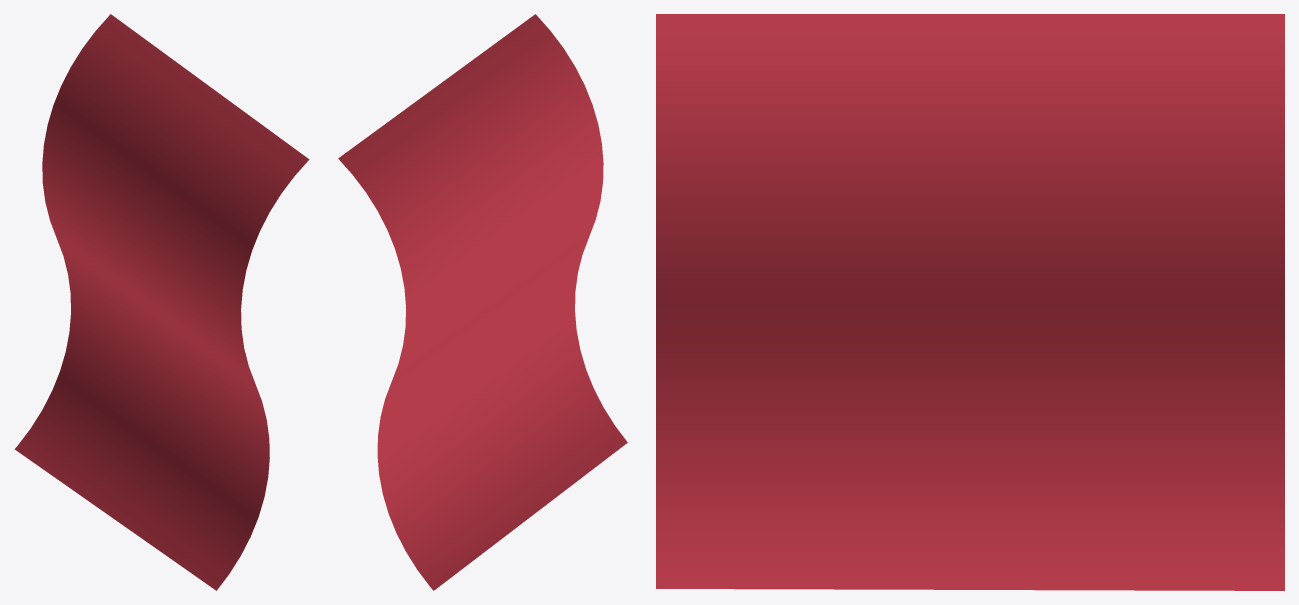
File: flag02.fbx
3 views of the same model, side by side, from view 1: azimuth 30°, elevation 25°; view 2: azimuth 150°, elevation 25°; view 3: azimuth 270°, elevation 25° (orthographic). The views are drawn at different scales.
Visible parts, largest first — view 1: flag02; view 2: flag02; view 3: flag02.
Boxes of the visible parts, x1,y1,x2,y2 form: flag02: (14, 14, 309, 590); flag02: (338, 14, 627, 590); flag02: (656, 14, 1284, 590).
Size of the model in its own units: 30.85 by 126 by 110.
